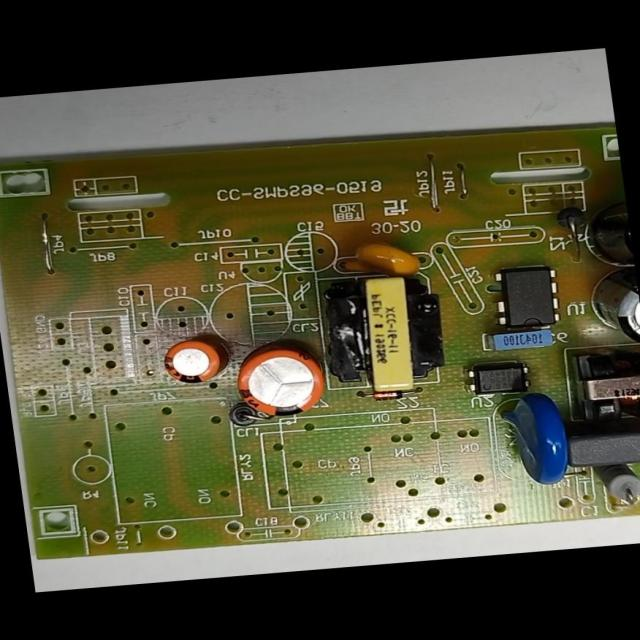Cap1: (226, 343, 334, 424)
Cap2: (157, 336, 229, 392)
Cap3: (579, 275, 639, 355)
Cap4: (577, 191, 634, 277)
MOSFET: (486, 261, 563, 333)
Mov: (494, 391, 574, 493)
Resistor: (592, 464, 639, 519)
Transformer: (311, 269, 457, 400), (567, 347, 639, 426)
